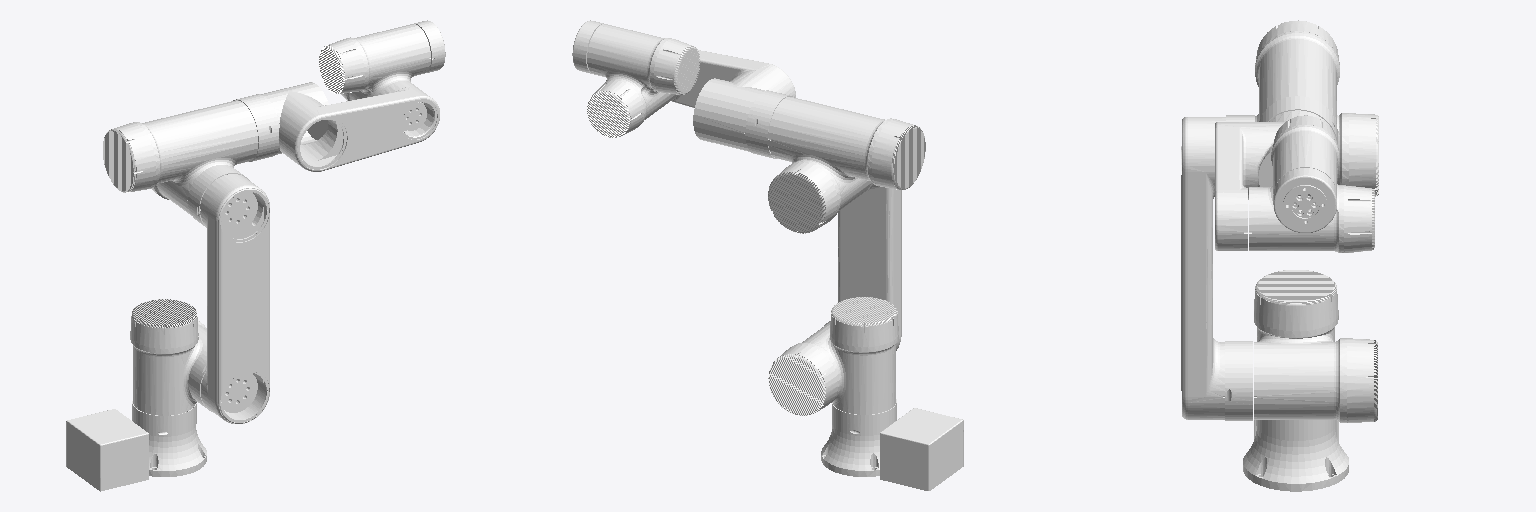
robot.urdf — arm_description:
<?xml version="1.0" encoding="utf-8"?>
<!-- This URDF was automatically created by SolidWorks to URDF Exporter! Originally created by Stephen Brawner (brawner@gmail.com) 
     Commit Version: 1.6.0-4-g7f85cfe  Build Version: 1.6.7995.38578
     For more information, please see http://wiki.ros.org/sw_urdf_exporter -->
<robot
  name="arm_description">
  <link
    name="base_link">
    <inertial>
      <origin
        xyz="-0.081857 -0.002 0.0084535"
        rpy="0 0 0" />
      <mass
        value="1.4824" />
      <inertia
        ixx="0.0028072"
        ixy="1.2257E-09"
        ixz="0.00058213"
        iyy="0.0062535"
        iyz="-8.8721E-11"
        izz="0.0072115" />
    </inertial>
    <visual>
      <origin
        xyz="0 0 0"
        rpy="0 0 0" />
      <geometry>
        <mesh
          filename="package://arm_description/meshes/base_link.STL" />
      </geometry>
      <material
        name="">
        <color
          rgba="1 1 1 1" />
      </material>
    </visual>
    <collision>
      <origin
        xyz="0 0 0"
        rpy="0 0 0" />
      <geometry>
        <mesh
          filename="package://arm_description/meshes/base_link.STL" />
      </geometry>
    </collision>
  </link>
  <link
    name="link1">
    <inertial>
      <origin
        xyz="0.031619 0.01494 0.10954"
        rpy="0 0 0" />
      <mass
        value="0.59945" />
      <inertia
        ixx="0.0017653"
        ixy="-6.5277E-05"
        ixz="4.6374E-05"
        iyy="0.0023729"
        iyz="2.376E-05"
        izz="0.0024373" />
    </inertial>
    <visual>
      <origin
        xyz="0 0 0"
        rpy="0 0 0" />
      <geometry>
        <mesh
          filename="package://arm_description/meshes/link1.STL" />
      </geometry>
      <material
        name="">
        <color
          rgba="1 1 1 1" />
      </material>
    </visual>
    <collision>
      <origin
        xyz="0 0 0"
        rpy="0 0 0" />
      <geometry>
        <mesh
          filename="package://arm_description/meshes/link1.STL" />
      </geometry>
    </collision>
  </link>
  <joint
    name="joint1"
    type="revolute">
    <origin
      xyz="0.0020007 -0.002 0.0375"
      rpy="0 0 0" />
    <parent
      link="base_link" />
    <child
      link="link1" />
    <axis
      xyz="0 0 -1" />
    <limit
      lower="-2.26"
      upper="2.0"
      effort="100"
      velocity="1" />
  </joint>
  <link
    name="link2">
    <inertial>
      <origin
        xyz="5.3285E-05 -0.027374 0.17519"
        rpy="0 0 0" />
      <mass
        value="1.1062" />
      <inertia
        ixx="0.014455"
        ixy="-9.4639E-07"
        ixz="2.2609E-05"
        iyy="0.015367"
        iyz="-5.4137E-06"
        izz="0.0013213" />
    </inertial>
    <visual>
      <origin
        xyz="0 0 0"
        rpy="0 0 0" />
      <geometry>
        <mesh
          filename="package://arm_description/meshes/link2.STL" />
      </geometry>
      <material
        name="">
        <color
          rgba="1 1 1 1" />
      </material>
    </visual>
    <collision>
      <origin
        xyz="0 0 0"
        rpy="0 0 0" />
      <geometry>
        <mesh
          filename="package://arm_description/meshes/link2.STL" />
      </geometry>
    </collision>
  </link>
  <joint
    name="joint2"
    type="revolute">
    <origin
      xyz="0.07 -0.1005 0.1005"
      rpy="0 0 0" />
    <parent
      link="link1" />
    <child
      link="link2" />
    <axis
      xyz="0 1 0" />
    <limit
      lower="-1.047"
      upper="1.57"
      effort="100"
      velocity="1" />
  </joint>
  <link
    name="link3">
    <inertial>
      <origin
        xyz="-0.0041112 0.11007 0.053336"
        rpy="0 0 0" />
      <mass
        value="0.90872" />
      <inertia
        ixx="0.0035679"
        ixy="-3.4657E-06"
        ixz="-3.3587E-05"
        iyy="0.004763"
        iyz="8.2362E-05"
        izz="0.0037939" />
    </inertial>
    <visual>
      <origin
        xyz="0 0 0"
        rpy="0 0 0" />
      <geometry>
        <mesh
          filename="package://arm_description/meshes/link3.STL" />
      </geometry>
      <material
        name="">
        <color
          rgba="1 1 1 1" />
      </material>
    </visual>
    <collision>
      <origin
        xyz="0 0 0"
        rpy="0 0 0" />
      <geometry>
        <mesh
          filename="package://arm_description/meshes/link3.STL" />
      </geometry>
    </collision>
  </link>
  <joint
    name="joint3"
    type="revolute">
    <origin
      xyz="0 0.002 0.35"
      rpy="0 0 0" />
    <parent
      link="link2" />
    <child
      link="link3" />
    <axis
      xyz="0 1 0" />
    <limit
      lower="-1.3"
      upper="2.0"
      effort="100"
      velocity="1" />
  </joint>
  <link
    name="link4">
    <inertial>
      <origin
        xyz="0.117056222931893 -0.0548288202127669 -7.21261931746486E-06"
        rpy="0 0 0" />
      <mass
        value="0.625047051095478" />
      <inertia
        ixx="0.00252942691278061"
        ixy="0.00144480785525377"
        ixz="-4.86294325231637E-09"
        iyy="0.00491290724987717"
        iyz="-8.58870309859859E-10"
        izz="0.00588049811460407" />
    </inertial>
    <visual>
      <origin
        xyz="0 0 0"
        rpy="0 0 0" />
      <geometry>
        <mesh
          filename="package://arm_description/meshes/link4.STL" />
      </geometry>
      <material
        name="">
        <color
          rgba="1 1 1 1" />
      </material>
    </visual>
    <collision>
      <origin
        xyz="0 0 0"
        rpy="0 0 0" />
      <geometry>
        <mesh
          filename="package://arm_description/meshes/link4.STL" />
      </geometry>
    </collision>
  </link>
  <joint
    name="joint4"
    type="revolute">
    <origin
      xyz="0.13 0.1005 0.078"
      rpy="0 0 0" />
    <parent
      link="link3" />
    <child
      link="link4" />
    <axis
      xyz="-1 0 0" />
    <limit
      lower="-2.62"
      upper="2.62"
      effort="100"
      velocity="1" />
  </joint>
  <link
    name="link5">
    <inertial>
      <origin
        xyz="-0.011840634998643 0.106602835589954 0.0349510445342055"
        rpy="0 0 0" />
      <mass
        value="0.443498179105702" />
      <inertia
        ixx="0.00129615137685354"
        ixy="-1.54725803762421E-05"
        ixz="-5.24093422675624E-05"
        iyy="0.00128586034229671"
        iyz="-9.21192736827939E-05"
        izz="0.00105468178379909" />
    </inertial>
    <visual>
      <origin
        xyz="0 0 0"
        rpy="0 0 0" />
      <geometry>
        <mesh
          filename="package://arm_description/meshes/link5.STL" />
      </geometry>
      <material
        name="">
        <color
          rgba="1 1 1 1" />
      </material>
    </visual>
    <collision>
      <origin
        xyz="0 0 0"
        rpy="0 0 0" />
      <geometry>
        <mesh
          filename="package://arm_description/meshes/link5.STL" />
      </geometry>
    </collision>
  </link>
  <joint
    name="joint5"
    type="revolute">
    <origin
      xyz="0.25 -0.088 0"
      rpy="0 0 0" />
    <parent
      link="link4" />
    <child
      link="link5" />
    <axis
      xyz="0 1 0" />
    <limit
      lower="-1.57"
      upper="1.57"
      effort="100"
      velocity="1" />
  </joint>
  <link
    name="link6">
    <inertial>
      <origin
        xyz="-0.00702268700914466 3.56721906725199E-05 1.30147271060199E-06"
        rpy="0 0 0" />
      <mass
        value="0.0780766932579047" />
      <inertia
        ixx="9.13437566476818E-05"
        ixy="8.08588335297073E-09"
        ixz="2.95007771206789E-10"
        iyy="4.90773832491819E-05"
        iyz="1.30776837611464E-09"
        izz="4.90415862395273E-05" />
    </inertial>
    <visual>
      <origin
        xyz="0 0 0"
        rpy="0 0 0" />
      <geometry>
        <mesh
          filename="package://arm_description/meshes/link6.STL" />
      </geometry>
      <material
        name="">
        <color
          rgba="1 1 1 1" />
      </material>
    </visual>
    <collision>
      <origin
        xyz="0 0 0"
        rpy="0 0 0" />
      <geometry>
        <mesh
          filename="package://arm_description/meshes/link6.STL" />
      </geometry>
    </collision>
  </link>
  <joint
    name="joint6"
    type="revolute">
    <origin
      xyz="0.1024 0.099 0.07"
      rpy="0 0 0" />
    <parent
      link="link5" />
    <child
      link="link6" />
    <axis
      xyz="1 0 0" />
    <limit
      lower="-6.28"
      upper="6.28"
      effort="100"
      velocity="1" />
  </joint>
</robot>

--- Render facts (derived) ---
The picture shows the robot from 3 angles, left to right: view 1: azimuth 30°, elevation 25°; view 2: azimuth 150°, elevation 25°; view 3: azimuth 270°, elevation 25°; orthographic projection.
Model arm_description with 7 links and 6 joints (6 revolute), rooted at base_link, posed every joint at zero.
Visible links, largest first — view 1: link2, link3, link4, link1, base_link, link5, link6; view 2: link3, link1, link5, base_link, link2, link4, link6; view 3: link1, link2, link3, link5, link4, base_link, link6.
Link boxes in pixels (left/top/right/bottom): link2: left=188, top=165, right=269, bottom=423; link3: left=103, top=94, right=279, bottom=215; link4: left=254, top=82, right=439, bottom=171; link1: left=130, top=299, right=206, bottom=436; base_link: left=66, top=409, right=206, bottom=491; link5: left=319, top=24, right=430, bottom=130; link6: left=414, top=20, right=445, bottom=72; link3: left=745, top=90, right=925, bottom=233; link1: left=768, top=297, right=898, bottom=435; link5: left=587, top=24, right=700, bottom=137; base_link: left=821, top=408, right=963, bottom=490; link2: left=824, top=183, right=901, bottom=350; link4: left=672, top=50, right=795, bottom=151; link6: left=572, top=20, right=603, bottom=73; link1: left=1254, top=270, right=1377, bottom=440; link2: left=1181, top=115, right=1254, bottom=420; link3: left=1255, top=20, right=1378, bottom=196; link5: left=1249, top=115, right=1374, bottom=252; link4: left=1215, top=110, right=1329, bottom=250; base_link: left=1243, top=420, right=1348, bottom=491; link6: left=1273, top=168, right=1336, bottom=232.
Size in the robot's own frame: 0.7204 by 0.2795 by 0.716 metres.
7 mesh visuals loaded from 7 distinct referenced files (7 binary STL).
